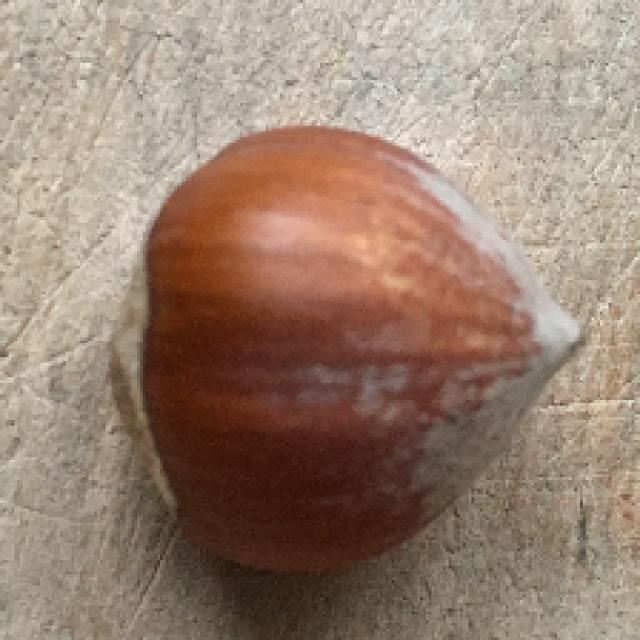QualityHazelnut: (117, 124, 592, 576)
